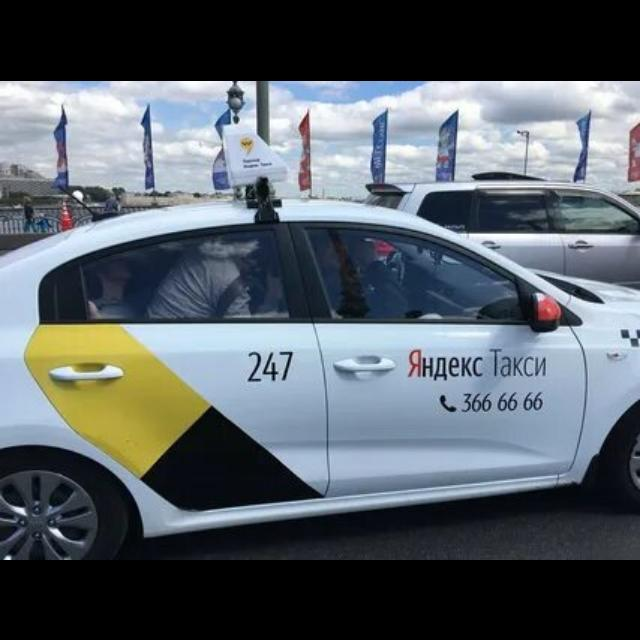taxi: (1, 193, 639, 560)
